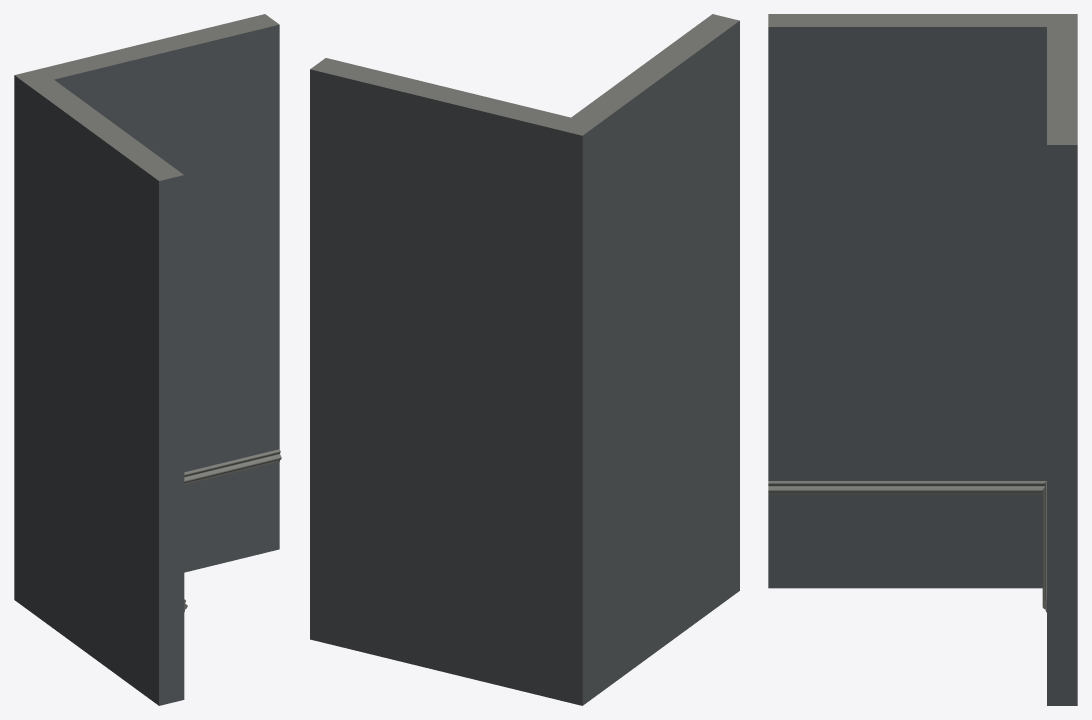
The model's file is wall4corner.glb.
3 renders of one model, left to right at view 1: azimuth 30°, elevation 25°; view 2: azimuth 150°, elevation 25°; view 3: azimuth 270°, elevation 25°, orthographic. The views are drawn at different scales.
Parts seen in each view (by area): view 1: WallBigCornerOuter; view 2: WallBigCornerOuter; view 3: WallBigCornerOuter.
Part boxes in pixels (bbox=[...]): WallBigCornerOuter: bbox=[14, 14, 281, 705]; WallBigCornerOuter: bbox=[310, 14, 739, 705]; WallBigCornerOuter: bbox=[768, 14, 1077, 705].
Bounding box in the file's own units: 2 × 4 × 2.
Materials: 1 (1 with a texture image).
